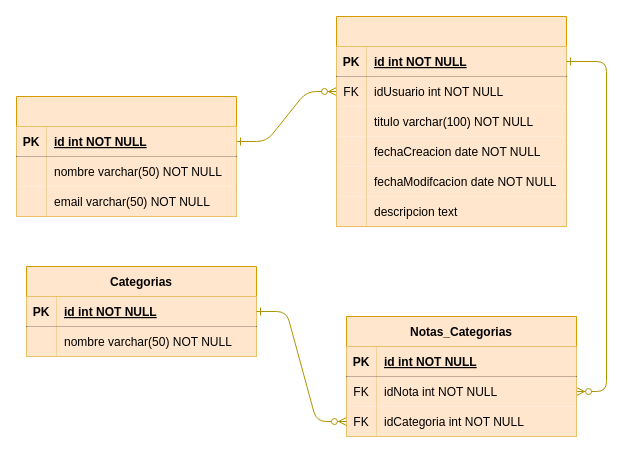
Some shapes in this 623 by 453 pixel diagram are drawn without their labels. The box of each missing label's shape, as (x1, y1, x2, y2) in pixels:
Notas: (336, 16, 566, 226)
Usuarios: (16, 96, 236, 216)
